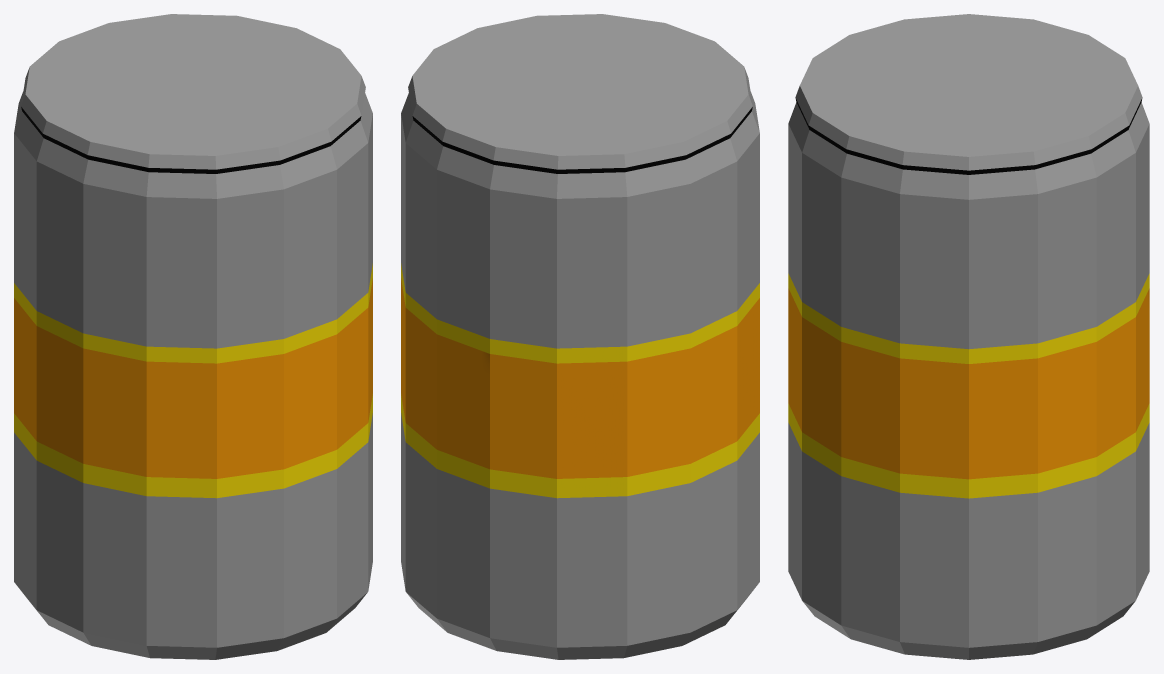
Rendered from Beer.fbx.
3 renders of one model, left to right at view 1: azimuth 30°, elevation 25°; view 2: azimuth 150°, elevation 25°; view 3: azimuth 270°, elevation 25°, orthographic.
Visible parts, largest first — view 1: Cylinder; view 2: Cylinder; view 3: Cylinder.
Part boxes in pixels (box(x1,y1,x2,y2)): Cylinder: box(14, 14, 372, 659); Cylinder: box(401, 14, 759, 659); Cylinder: box(788, 14, 1149, 659).
Size of the model in its own units: 189 by 291 by 189.
1 material, 1 textured.
